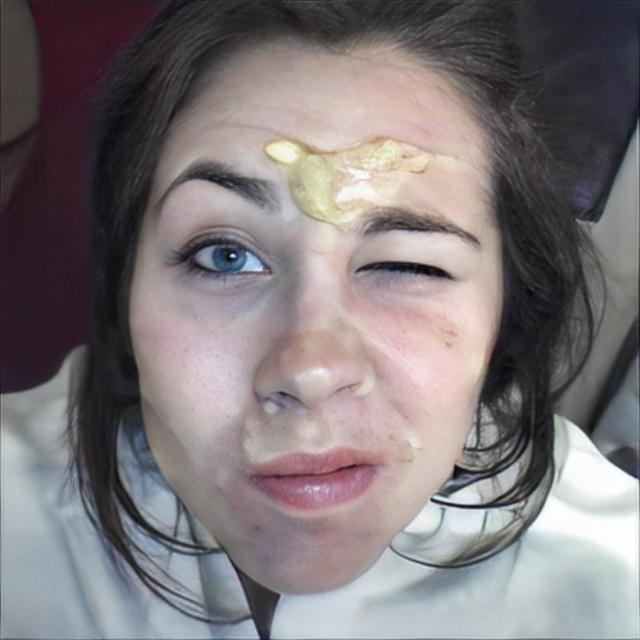disgust: (128, 20, 506, 598)
